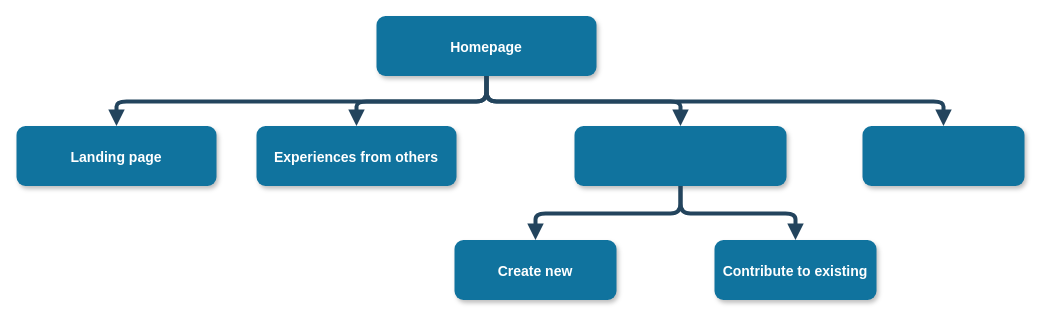
Image size: 1041x316. Some labels were removed from this diagram. Here are the shapes that lost their labels. From the top down, the centre of each, then its label:
At (x=681, y=157): "Brainstorm your family name".
At (x=944, y=157): "Impressum".
